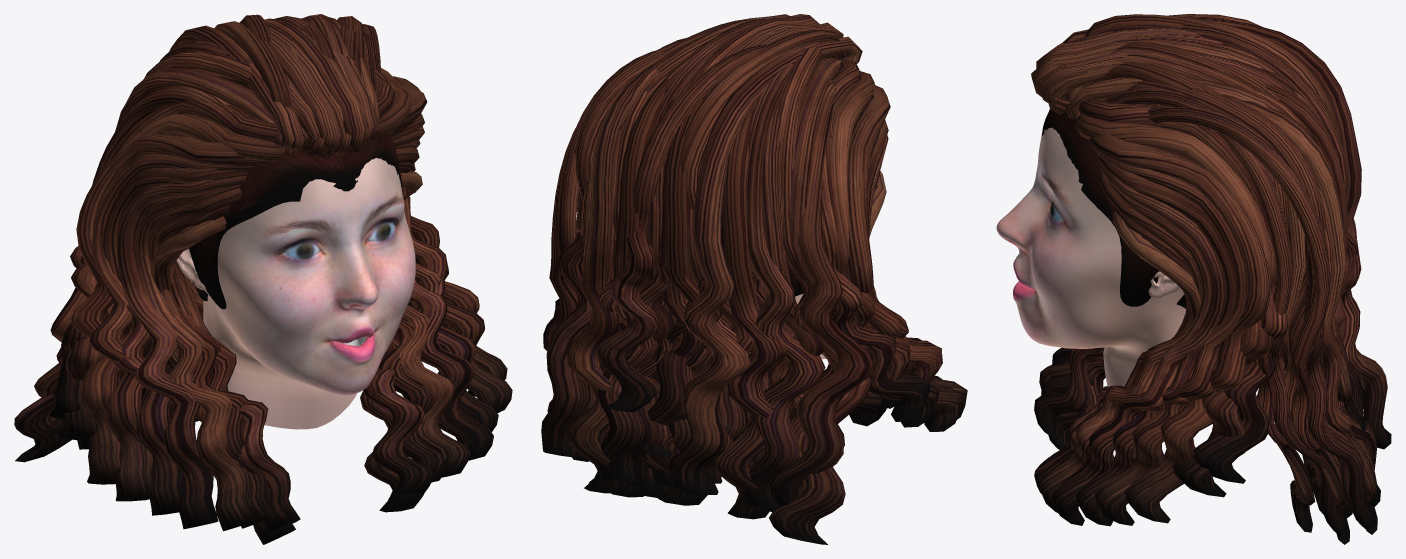
3 views of the same model, side by side, from view 1: azimuth 30°, elevation 25°; view 2: azimuth 150°, elevation 25°; view 3: azimuth 270°, elevation 25° (orthographic). The views are drawn at different scales.
Parts seen in each view (by area): view 1: oh; view 2: oh; view 3: oh.
Boxes of the visible parts, x1,y1,x2,y2 form: oh: [14, 14, 512, 544]; oh: [541, 14, 967, 544]; oh: [996, 14, 1391, 544].
Bounding box in the file's own units: 365 × 387 × 298.
